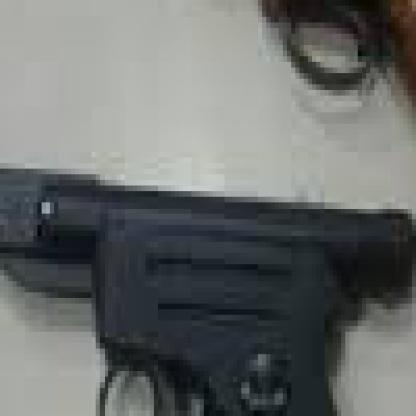gun: (12, 275, 154, 410), (25, 0, 225, 45)
